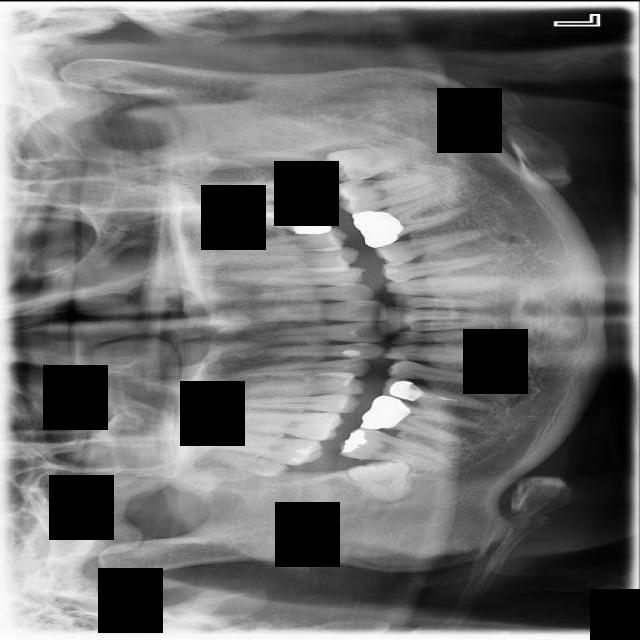3M ESPE Implant: (204, 446, 289, 480)
52: (349, 194, 408, 255), (359, 393, 414, 433), (338, 424, 392, 462), (287, 196, 333, 237), (380, 371, 426, 408), (276, 436, 324, 468), (331, 342, 384, 359), (318, 358, 367, 376), (381, 261, 418, 282), (349, 179, 377, 187)
73: (203, 192, 296, 231), (415, 386, 496, 412), (608, 14, 618, 24)
BioHorizons Implant: (204, 174, 319, 209)
Biomet 3i Implant: (320, 140, 413, 185)
Blue Sky Bio Implant: (332, 171, 440, 216)
Caries: (205, 428, 325, 468)
Implant: (337, 424, 451, 472)
Keystone Dental Implant: (346, 457, 411, 506)
